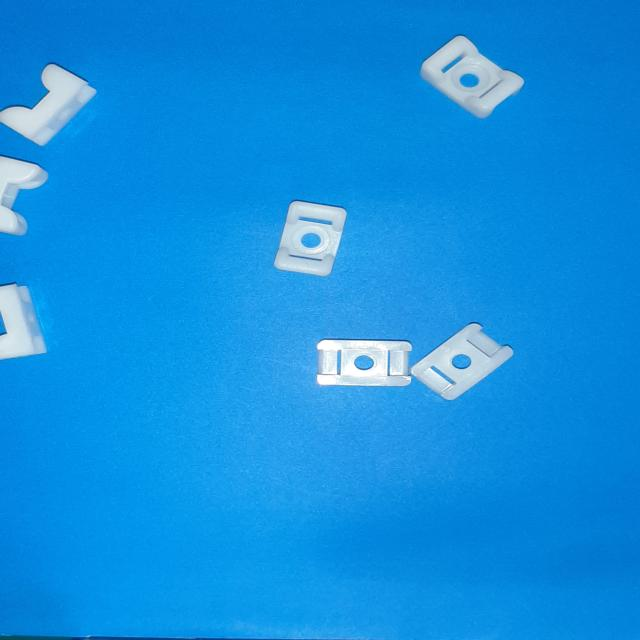false_1: (412, 322, 513, 400), (317, 339, 412, 386)
false_2: (0, 64, 97, 145), (0, 156, 48, 235), (0, 284, 47, 360)
true: (420, 35, 523, 119), (273, 201, 347, 276)
true_center: (302, 234, 320, 248), (460, 74, 478, 88)
